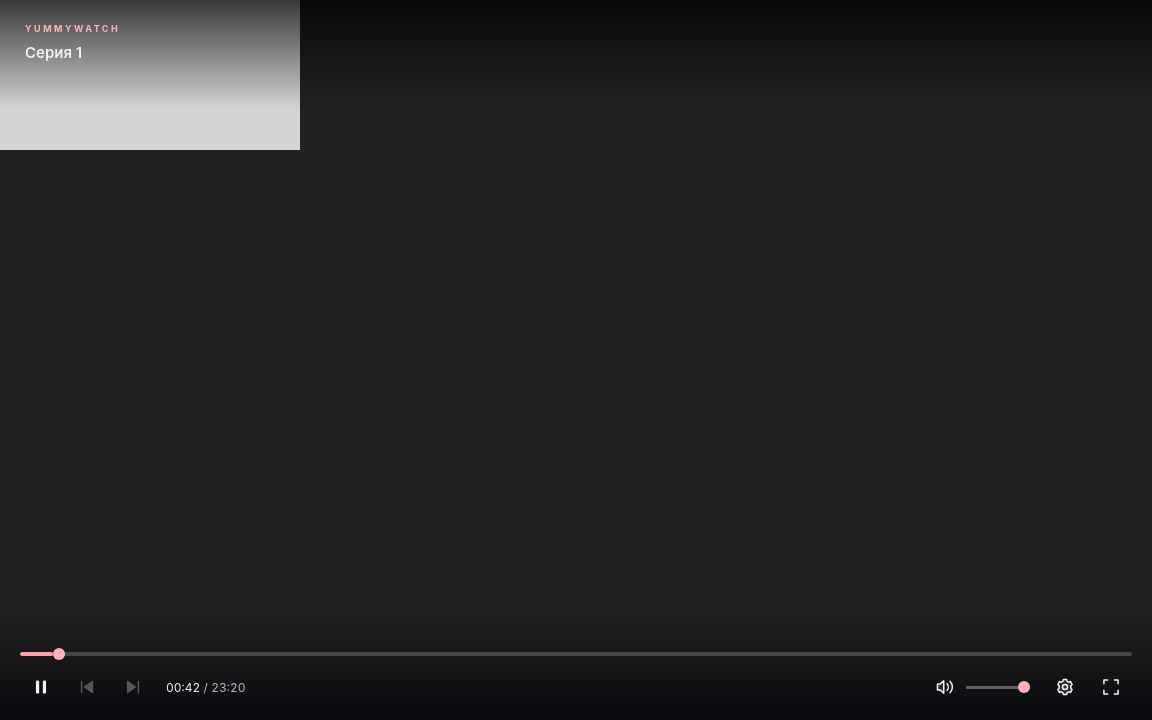
Test: custom playback controls › does not pin controls after a pointer click even when the browser reports focus-visible
Press the mouse on the button named "Выключить звук" at (945, 687), box [924, 666, 966, 708]
Click the button named "Выключить звук" at (945, 687), box [924, 666, 966, 708]
Wait 3001 ms
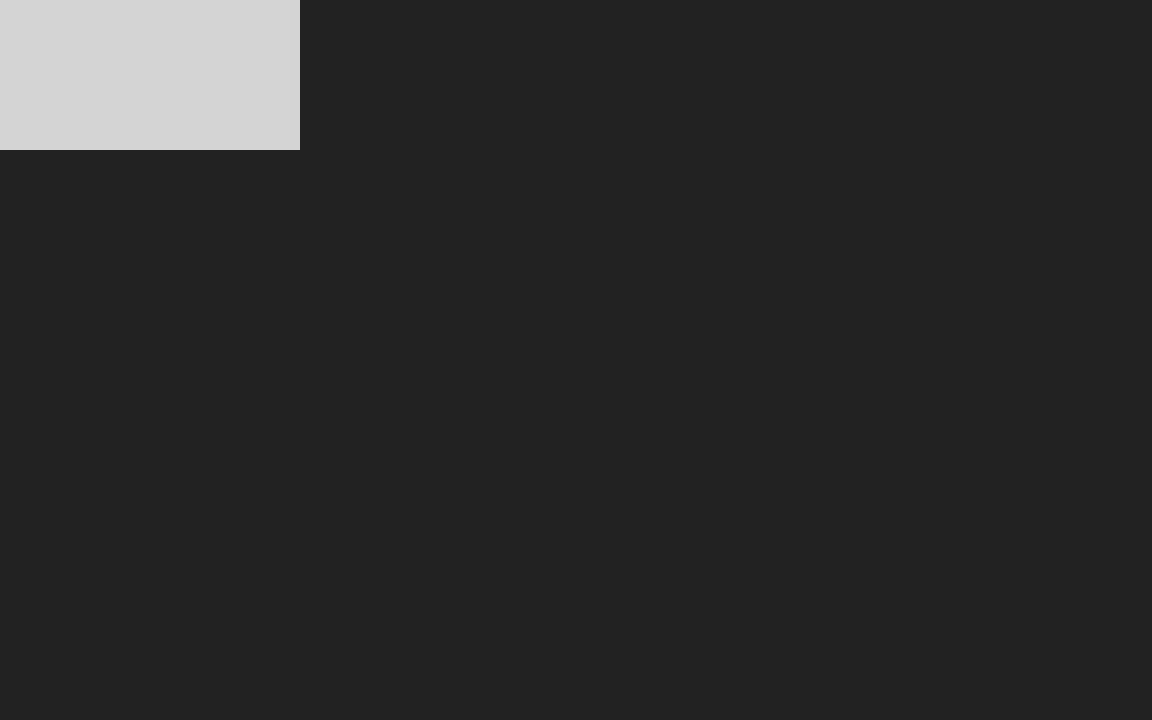
expect the element named "Видеоплеер" has class "is-hidden": met
